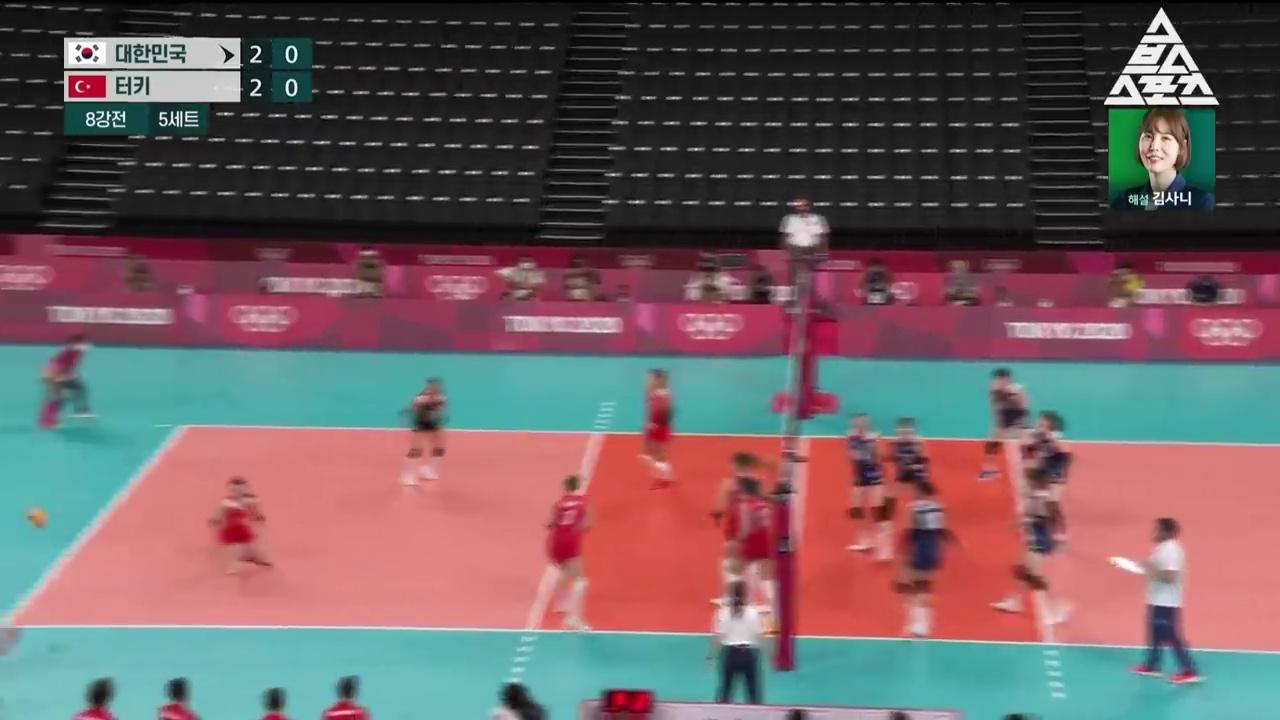ball: (27, 506, 48, 529)
player: (990, 469, 1063, 625), (884, 418, 964, 557), (709, 453, 768, 610), (724, 478, 780, 632), (894, 483, 942, 637), (547, 476, 594, 631), (978, 369, 1042, 479), (1024, 410, 1072, 552), (206, 479, 273, 577), (846, 413, 889, 559), (401, 377, 445, 487), (640, 370, 674, 490)
referee: (712, 581, 764, 703), (780, 200, 829, 317)
